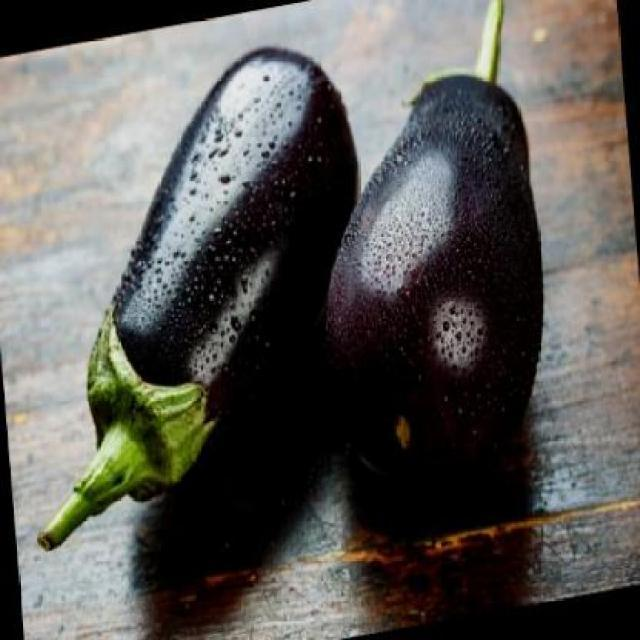eggplant: (34, 29, 366, 555), (324, 1, 560, 507)
